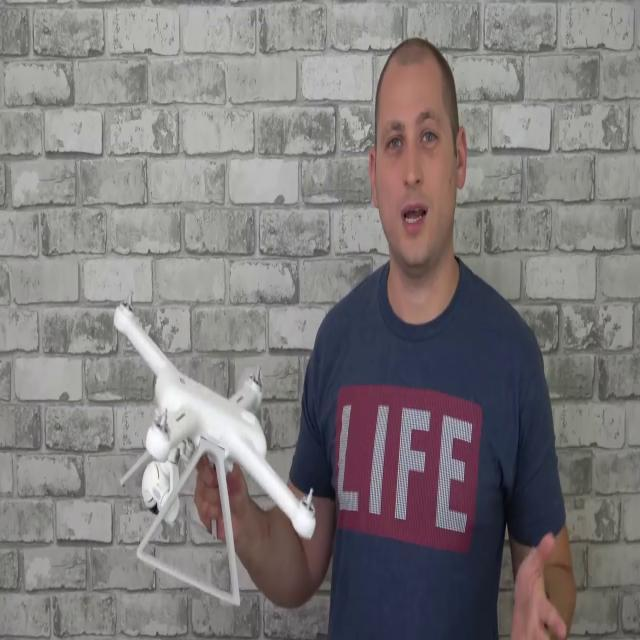drone: (107, 286, 325, 552)
